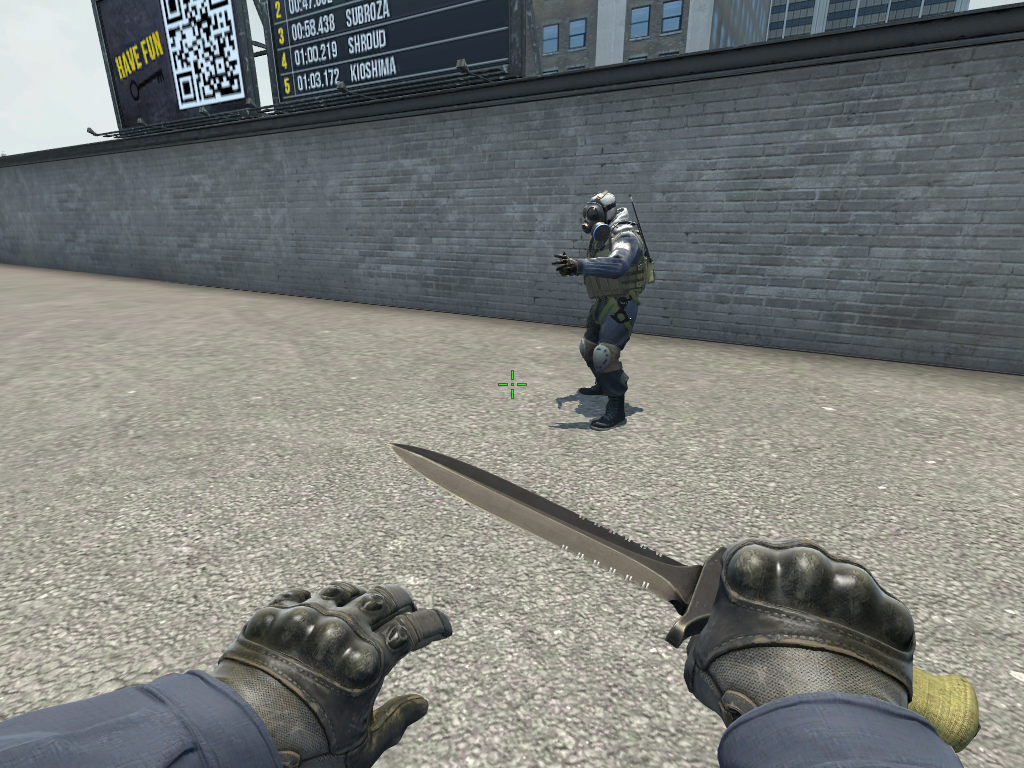ct head: (582, 190, 618, 240)
